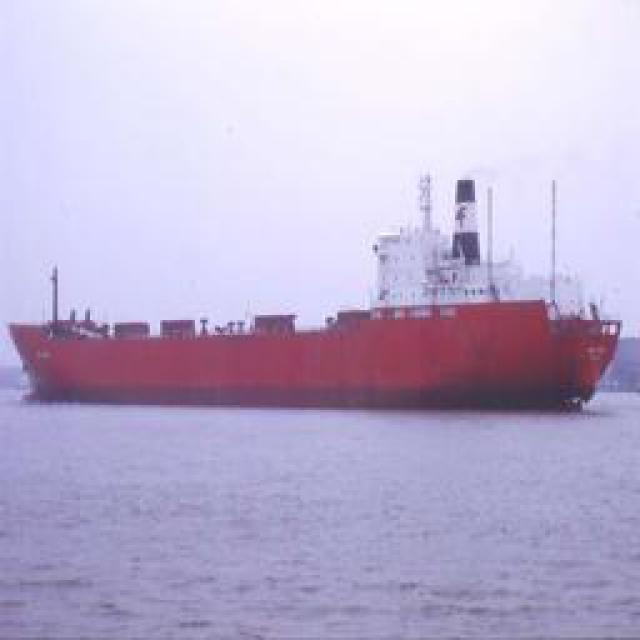Ship: (20, 211, 625, 411)
